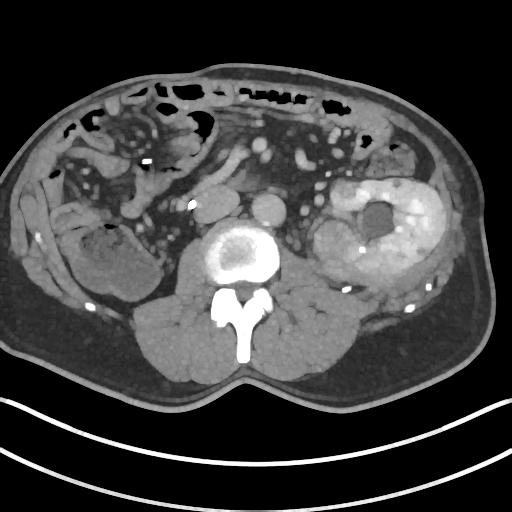Lesion: (309, 217, 361, 267)
